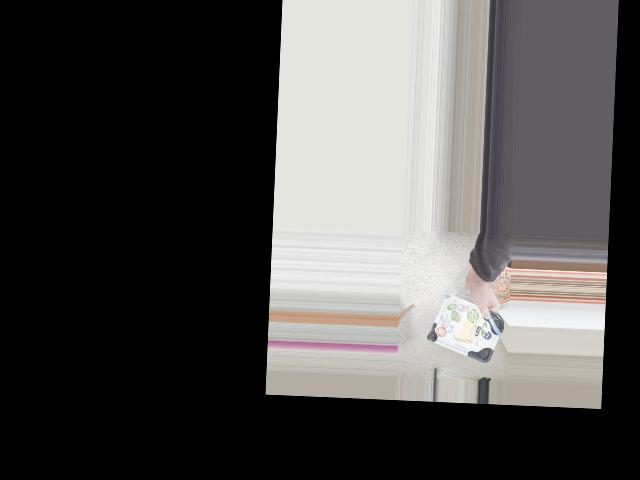cheese: (434, 300, 496, 350)
